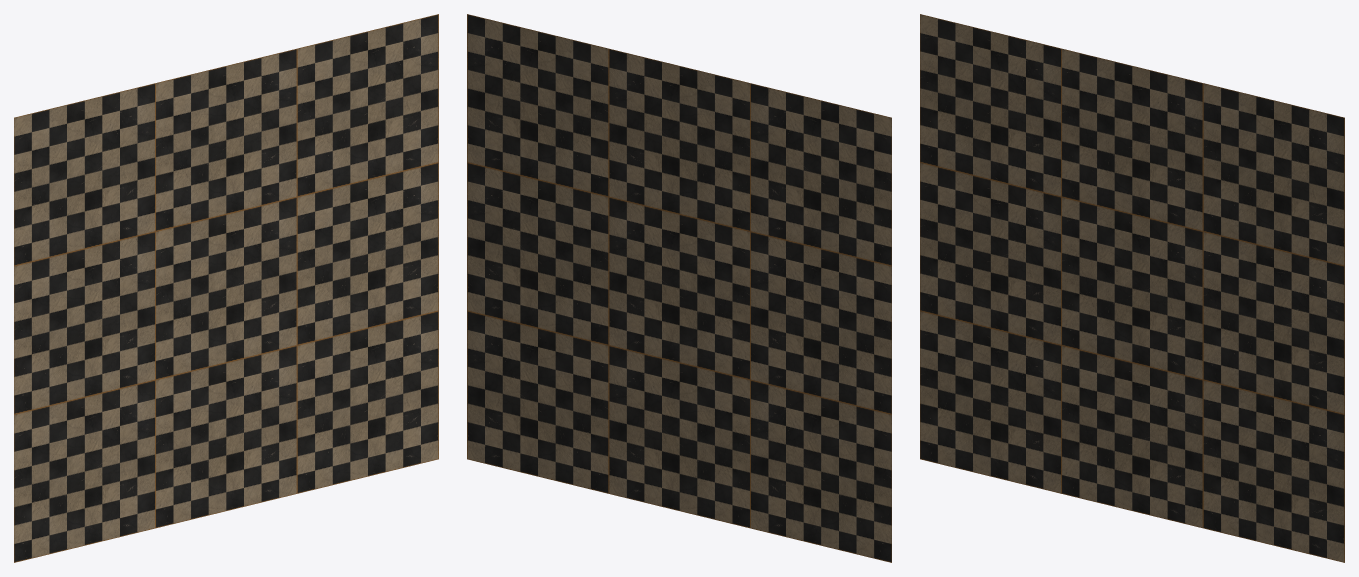
File: Tile.obj
3 renders of one model, left to right at view 1: azimuth 30°, elevation 25°; view 2: azimuth 150°, elevation 25°; view 3: azimuth 330°, elevation 25°, orthographic.
Visible parts, largest first — view 1: Chess_board_Chess_board_0.003; view 2: Chess_board_Chess_board_0.003; view 3: Chess_board_Chess_board_0.003.
Boxes of the visible parts, left/top/right/bottom form: Chess_board_Chess_board_0.003: left=14, top=14, right=438, bottom=562; Chess_board_Chess_board_0.003: left=467, top=14, right=891, bottom=562; Chess_board_Chess_board_0.003: left=920, top=14, right=1344, bottom=562.
Size of the model in its own units: 100 by 100 by 2e-06.
Materials: 1 (1 with a texture image).
